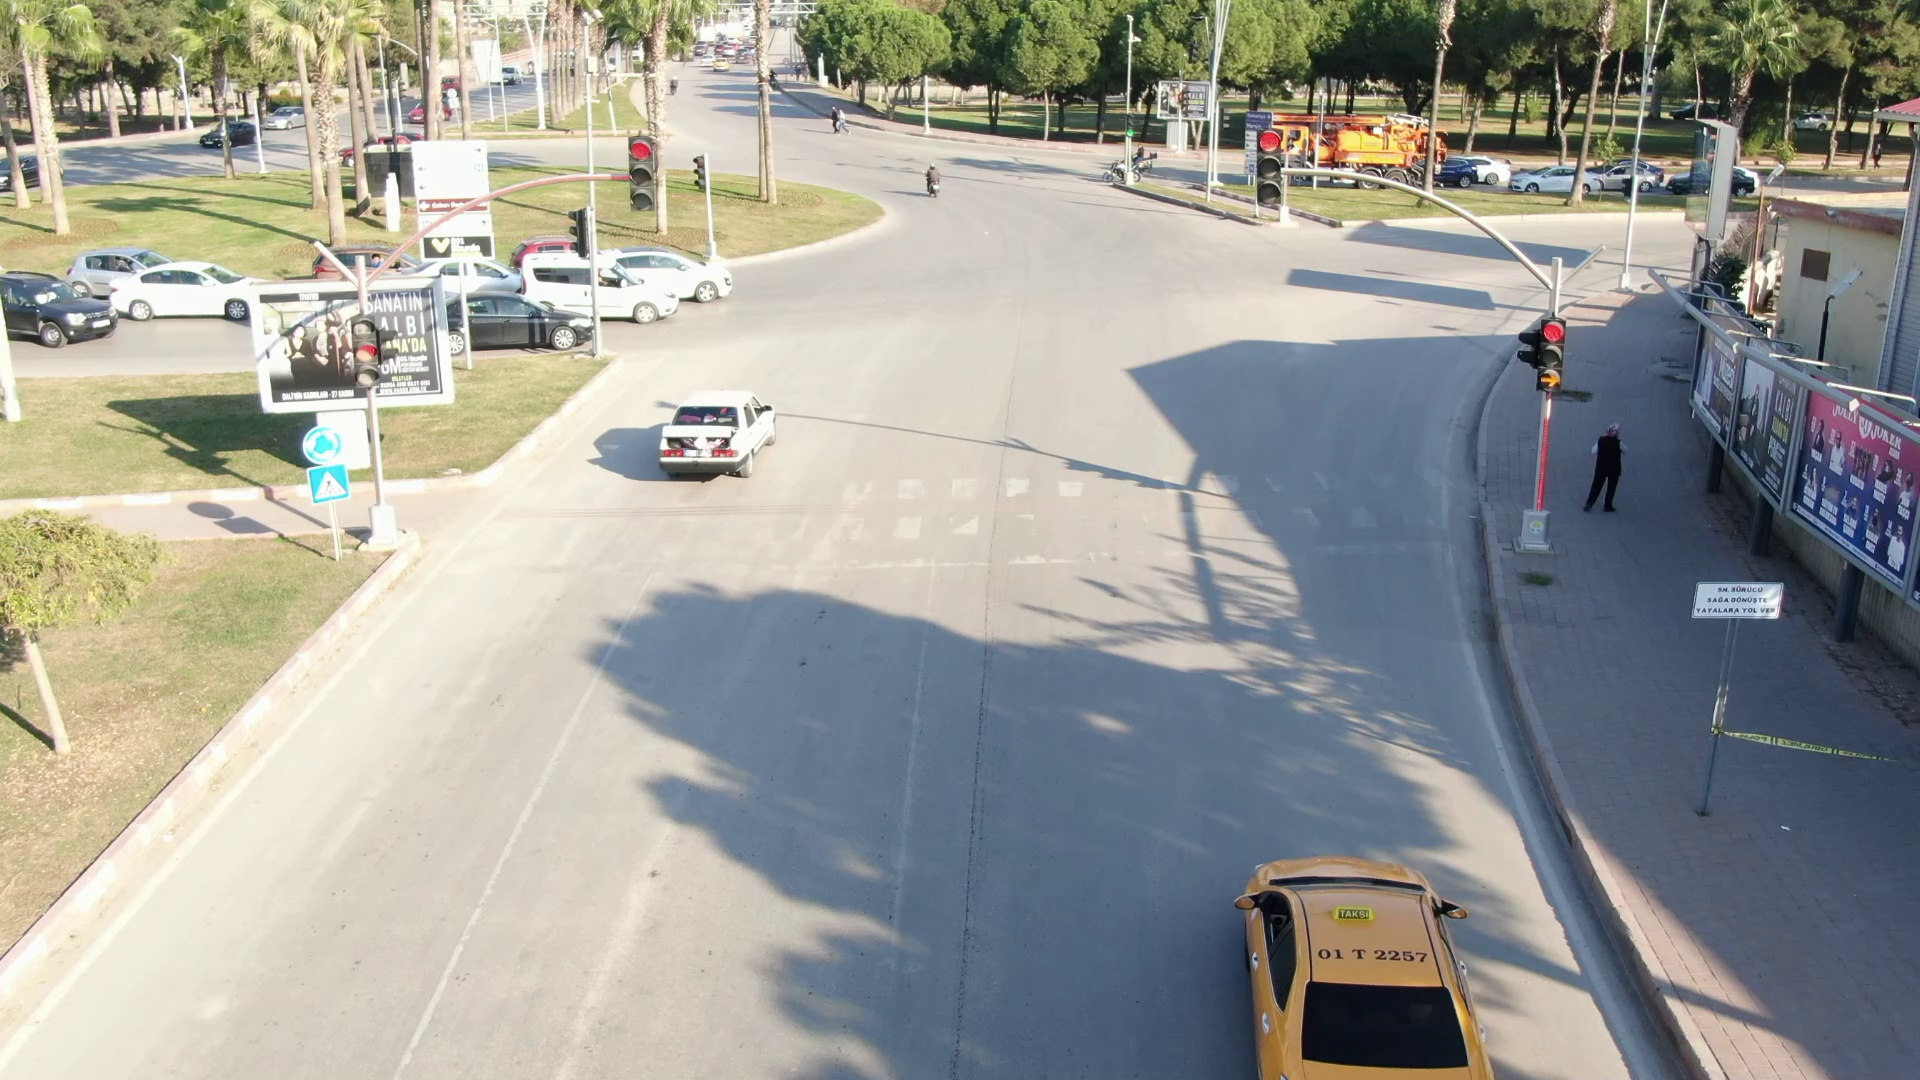car: (1224, 831, 1491, 1080), (500, 247, 692, 327), (439, 274, 612, 357), (649, 384, 785, 480), (1, 260, 123, 349), (622, 231, 737, 302)
